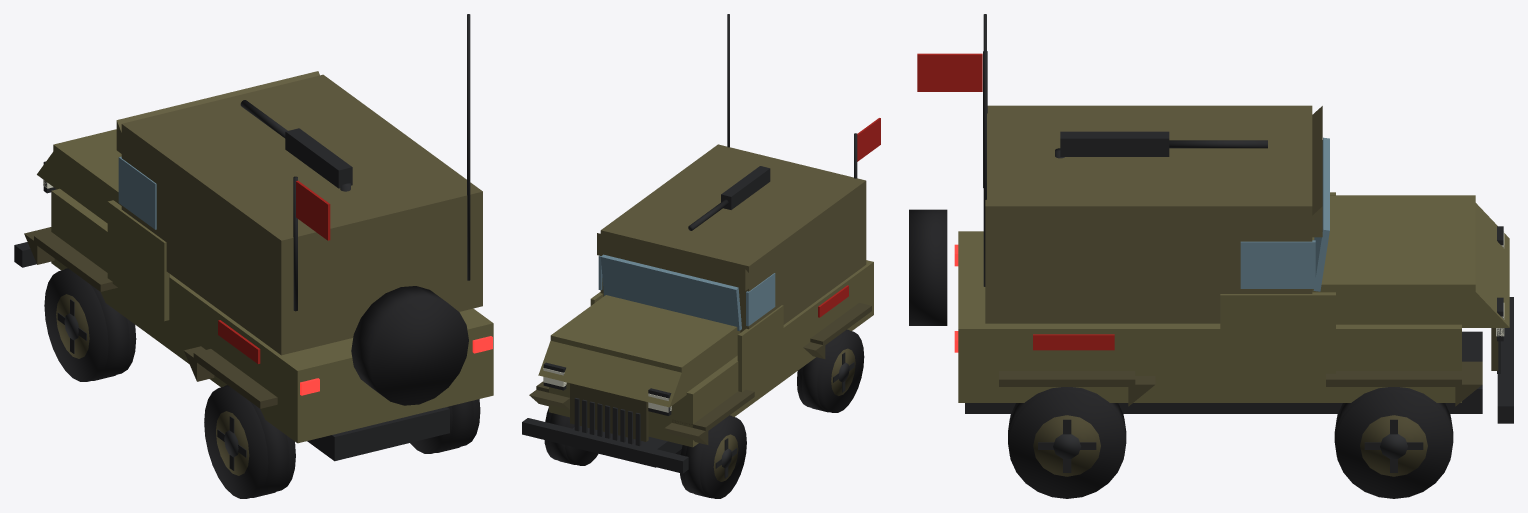
The model's file is Jeep_Red.fbx.
3 renders of one model, left to right at view 1: azimuth 30°, elevation 25°; view 2: azimuth 150°, elevation 25°; view 3: azimuth 270°, elevation 25°, orthographic. The views are drawn at different scales.
Visible parts, largest first — view 1: CanvasTop, Body, SpareWheel, DoorL1Panel, Hood, TyreL2, TyreL1, Frame, GunBody, DoorL1Window, FenderL1, FenderL0 (+11 smaller); view 2: CanvasTop, Hood, Body, Windshield, HoodNose, CanvasTopEdge, Bumper, DoorL1Panel, TyreL2, TyreL1, Grille, DoorL1Window (+15 smaller); view 3: CanvasTop, Body, Hood, DoorR1Panel, TyreR1, TyreR2, SpareWheel, Frame, HoodNose, DoorR1Window, GunBody, TeamFlag (+13 smaller).
Part boxes in pixels (bbox=[...]): CanvasTop: bbox=[121, 74, 482, 355]; Body: bbox=[51, 188, 493, 443]; SpareWheel: bbox=[351, 286, 468, 405]; DoorL1Panel: bbox=[107, 200, 169, 321]; Hood: bbox=[53, 129, 121, 223]; TyreL2: bbox=[204, 386, 295, 498]; TyreL1: bbox=[44, 269, 136, 381]; Frame: bbox=[307, 407, 449, 461]; GunBody: bbox=[285, 128, 352, 188]; DoorL1Window: bbox=[118, 156, 156, 229]; FenderL1: bbox=[193, 349, 277, 408]; FenderL0: bbox=[34, 232, 117, 291]; CanvasTop: bbox=[600, 144, 866, 332]; Hood: bbox=[550, 295, 740, 398]; Body: bbox=[549, 260, 873, 447]; Windshield: bbox=[600, 254, 741, 331]; HoodNose: bbox=[538, 341, 681, 407]; CanvasTopEdge: bbox=[597, 233, 748, 290]; Bumper: bbox=[522, 418, 688, 473]; DoorL1Panel: bbox=[737, 305, 783, 391]; TyreL2: bbox=[797, 330, 864, 412]; TyreL1: bbox=[680, 416, 746, 498]; Grille: bbox=[570, 383, 648, 441]; DoorL1Window: bbox=[746, 273, 775, 326]; CanvasTop: bbox=[985, 105, 1312, 323]; Body: bbox=[958, 231, 1461, 402]; Hood: bbox=[1312, 195, 1475, 327]; DoorR1Panel: bbox=[1220, 292, 1335, 375]; TyreR1: bbox=[1335, 389, 1452, 498]; TyreR2: bbox=[1008, 389, 1125, 498]; SpareWheel: bbox=[909, 209, 947, 325]; Frame: bbox=[965, 331, 1482, 413]; HoodNose: bbox=[1469, 203, 1509, 327]; DoorR1Window: bbox=[1240, 240, 1315, 288]; GunBody: bbox=[1060, 131, 1169, 156]; TeamFlag: bbox=[917, 53, 982, 91].
Size of the model in its own units: 200 by 444 by 384.
